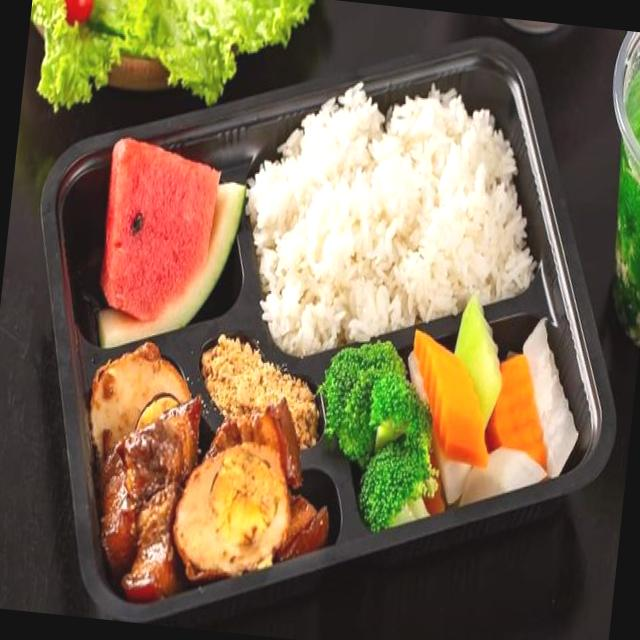com: (248, 84, 535, 356)
do chua: (407, 297, 577, 512)
dua hau: (98, 137, 245, 347)
kho trung: (89, 342, 327, 599)
rau: (317, 340, 437, 532)
